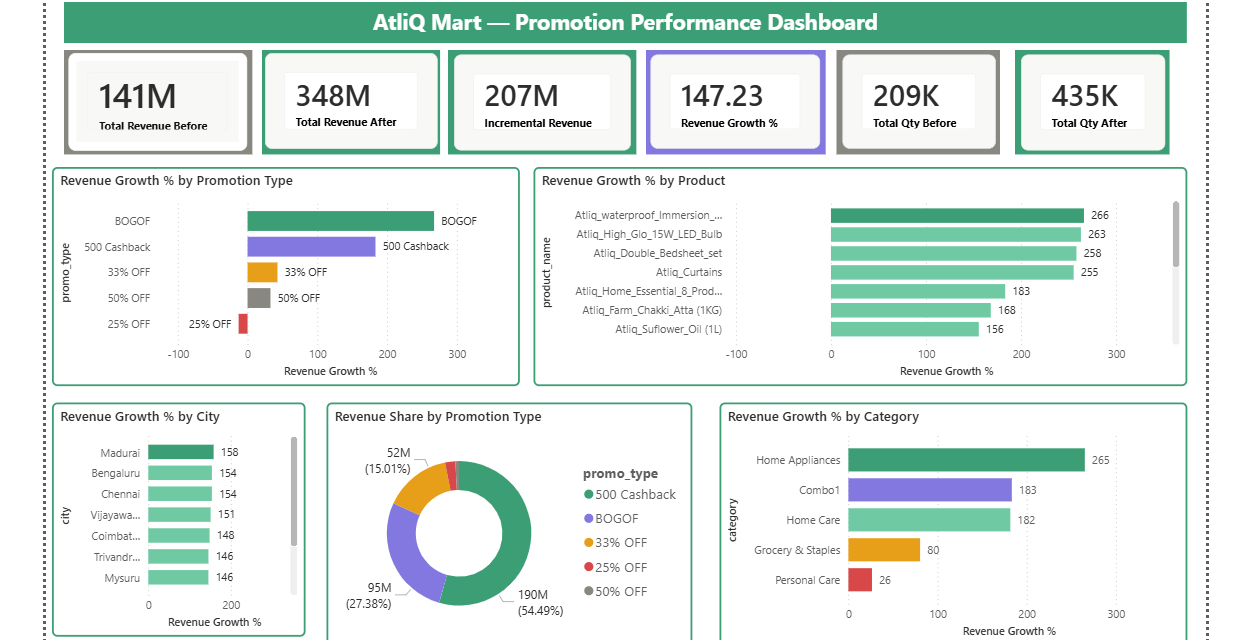

Layout of this report page (visuals, bound fields, positions):
{"tool":"powerbi","page":{"name":"Executive Overview","canvas":[1280,720],"ordinal":0},"visuals":[{"type":"shape","box":[1070.3,63.4,170.8,115.5],"z":0},{"type":"shape","box":[873.5,63.4,180.5,115.5],"z":1000},{"type":"shape","box":[662,63.4,198.4,115.5],"z":2000},{"type":"shape","box":[444,63.4,208.2,115.5],"z":3000},{"type":"shape","box":[239.1,63.4,196.8,115.5],"z":4000},{"type":"shape","box":[19.5,63.4,208.2,115.5],"z":5000},{"type":"cardVisual","fields":{"Data":["atliq_promotion_analysis_final.Total Revenue After"]},"box":[286.6,207.1,190.5,106],"z":7000},{"type":"cardVisual","fields":{"Data":["atliq_promotion_analysis_final.Total Qty After"]},"box":[1076.8,68.3,159.4,105.7],"z":8000},{"type":"cardVisual","fields":{"Data":["atliq_promotion_analysis_final.Incremental Revenue"]},"box":[450.6,68.3,195.2,105.7],"z":9000},{"type":"cardVisual","fields":{"Data":["atliq_promotion_analysis_final.Revenue Growth %"]},"box":[666.9,68.3,187.1,104.1],"z":10000},{"type":"cardVisual","fields":{"Data":["atliq_promotion_analysis_final.Total Qty Before"]},"box":[880,68.3,169.2,104.1],"z":11000},{"type":"textbox","box":[20,10,1240,45],"z":12000},{"type":"clusteredBarChart","title":" Revenue Growth % by Promotion Type","fields":{"Category":["atliq_promotion_analysis_final.promo_type"],"Y":["atliq_promotion_analysis_final.Revenue Growth %"]},"box":[6.6,192.2,516.8,241.8],"z":13000},{"type":"clusteredBarChart","title":"Revenue Growth % by Category","fields":{"Category":["atliq_promotion_analysis_final.category"],"Y":["atliq_promotion_analysis_final.Revenue Growth %"]},"box":[743.8,452.2,516.8,268.3],"z":14000},{"type":"clusteredBarChart","title":"Revenue Growth % by City","fields":{"Category":["atliq_promotion_analysis_final.city"],"Y":["atliq_promotion_analysis_final.Revenue Growth %"]},"box":[6.6,452.2,279.9,258.4],"z":15000},{"type":"clusteredBarChart","title":"Revenue Growth % by Product","fields":{"Category":["atliq_promotion_analysis_final.product_name"],"Y":["atliq_promotion_analysis_final.Revenue Growth %"]},"box":[538.4,192.2,722.2,241.8],"z":16000},{"type":"donutChart","title":"Revenue Share by Promotion Type","fields":{"Category":["atliq_promotion_analysis_final.promo_type"],"Y":["Sum(atliq_promotion_analysis_final.revenue_after)"]},"box":[309.8,452.2,404.2,268.3],"z":17000},{"type":"cardVisual","fields":{"Data":["atliq_promotion_analysis_final.Total Revenue After"]},"box":[241.8,66.3,190.5,106],"z":18001},{"type":"cardVisual","fields":{"Data":["atliq_promotion_analysis_final.Total Revenue Before"]},"box":[24.8,66.3,197.1,107.7],"z":18003}]}

Visuals, with their boxes in screenshot pixels (x1, y1, x2, y2):
shape: 1011,48,1166,153
shape: 832,48,996,153
shape: 640,48,821,153
shape: 442,48,631,153
shape: 256,48,435,153
shape: 57,48,246,153
cardVisual - atliq_promotion_analysis_final.Total Revenue After: 299,178,472,275
cardVisual - atliq_promotion_analysis_final.Total Qty After: 1017,52,1162,148
cardVisual - atliq_promotion_analysis_final.Incremental Revenue: 448,52,626,148
cardVisual - atliq_promotion_analysis_final.Revenue Growth %: 645,52,815,147
cardVisual - atliq_promotion_analysis_final.Total Qty Before: 838,52,992,147
textbox: 57,0,1183,40
" Revenue Growth % by Promotion Type" clusteredBarChart: 45,165,515,384
"Revenue Growth % by Category" clusteredBarChart: 715,401,1184,639
"Revenue Growth % by City" clusteredBarChart: 45,401,299,636
"Revenue Growth % by Product" clusteredBarChart: 528,165,1184,384
"Revenue Share by Promotion Type" donutChart: 321,401,688,639
cardVisual - atliq_promotion_analysis_final.Total Revenue After: 259,50,432,147
cardVisual - atliq_promotion_analysis_final.Total Revenue Before: 62,50,241,148
